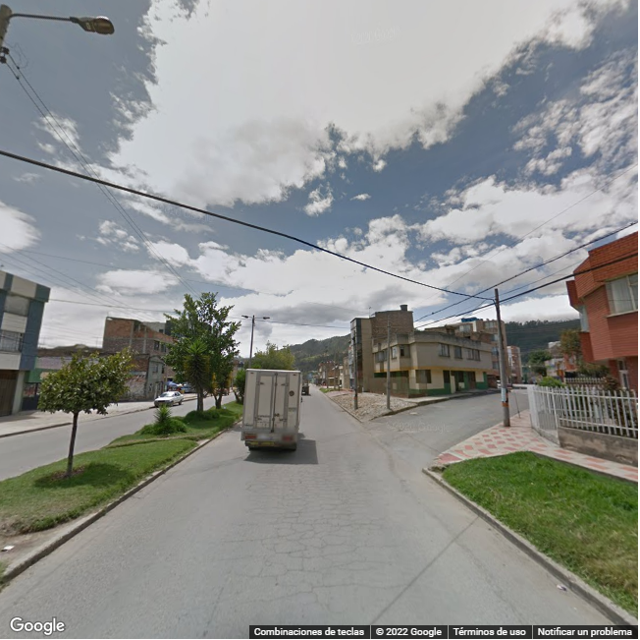D00: (205, 541, 238, 636)
D10: (309, 581, 412, 597), (249, 587, 308, 607), (317, 556, 391, 567)
D20: (265, 484, 354, 552)
